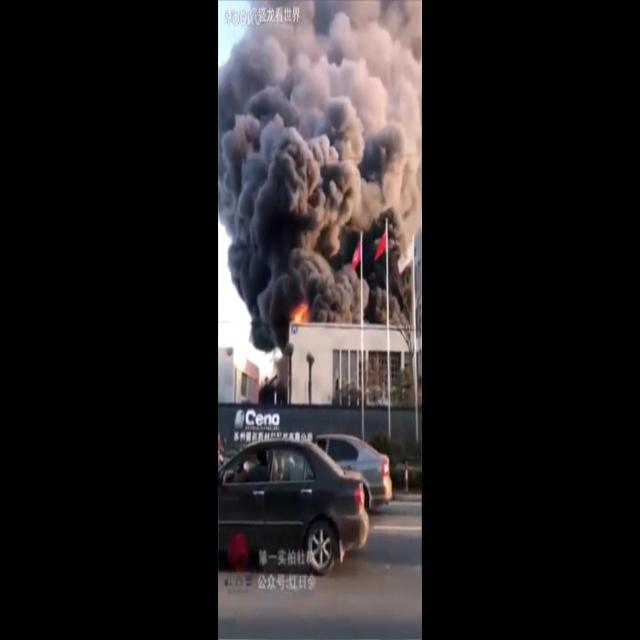fire: (290, 300, 309, 326)
smoke: (219, 0, 423, 348)
